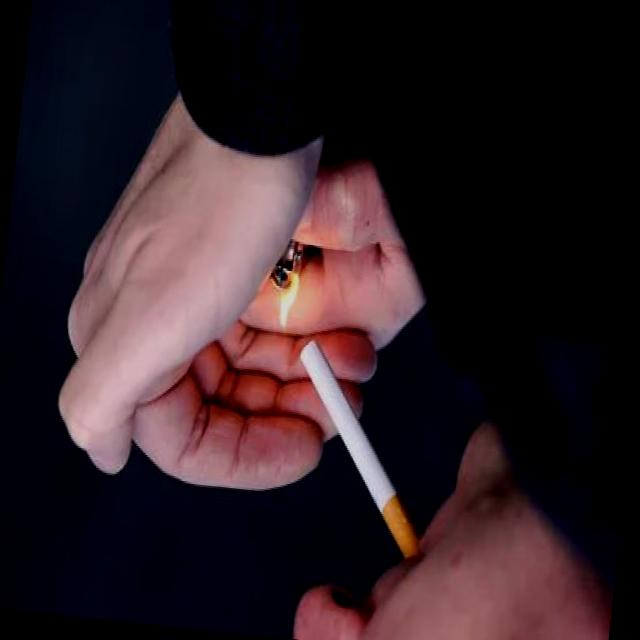smoke: (276, 336, 443, 562)
